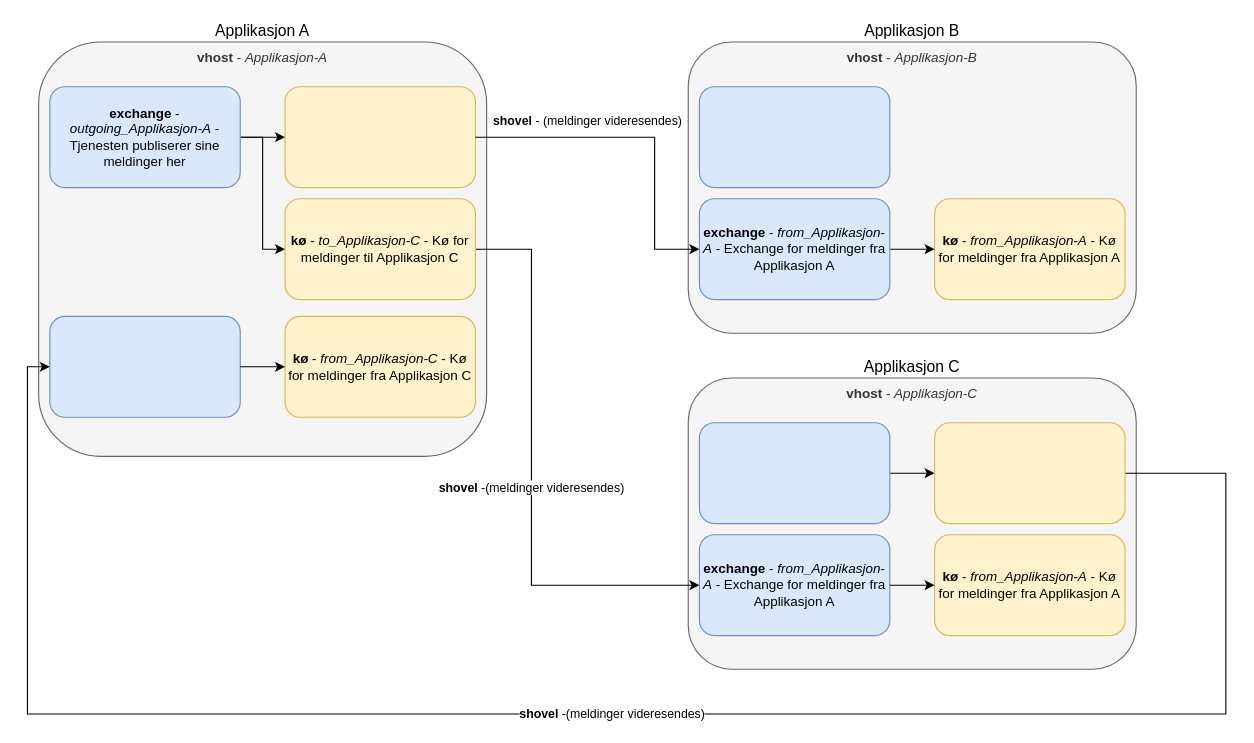
The diagram is 1254 pixels wide and 743 high, and some of its shapes have lost their labels. The centre of each missing label's shape, as x and y in pixels:
exchange - from_Applikasjon-C - Exchange for meldinger fra Applikasjon C: the point at 144,366
exchange - outgoing_Applikasjon-B - Tjenesten publiserer sine meldinger her: the point at 794,137
exchange - outgoing_Applikasjon-C - Tjenesten publiserer sine meldinger her: the point at 794,473
kø - to_Applikasjon-A - Kø for meldinger til Applikasjon A: the point at 1029,473
kø - to_Applikasjon-B - Kø for meldinger til Applikasjon B: the point at 379,137
